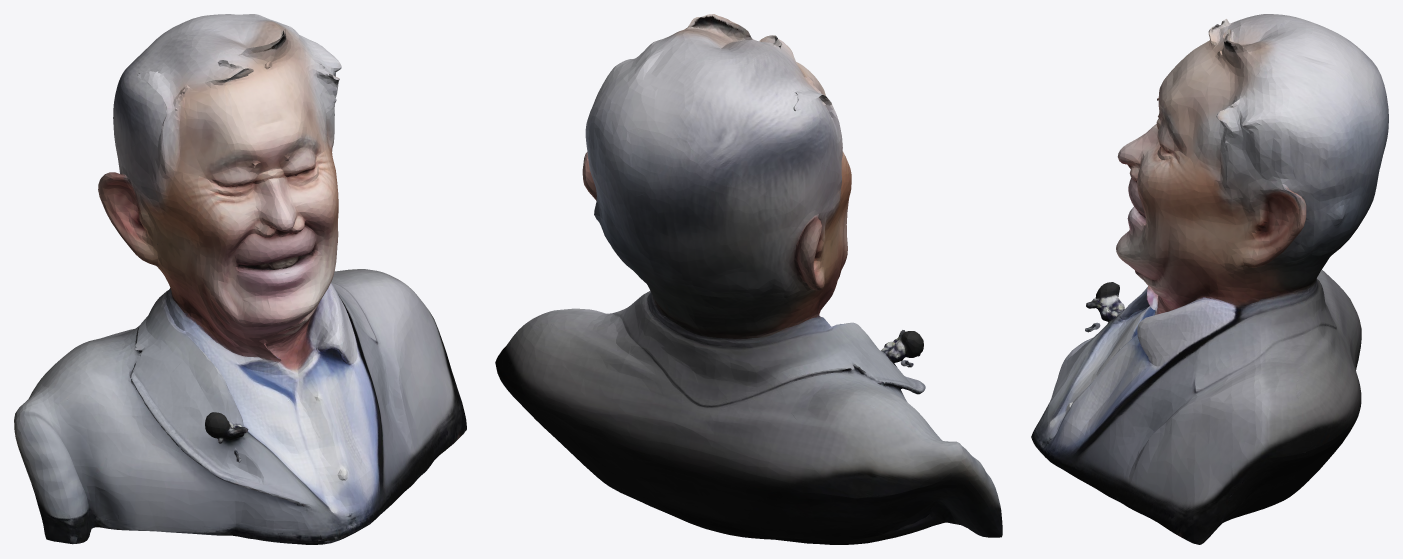
File: takei.glb
3 views of the same model, side by side, from view 1: azimuth 30°, elevation 25°; view 2: azimuth 150°, elevation 25°; view 3: azimuth 270°, elevation 25° (orthographic). The views are drawn at different scales.
Visible parts, largest first — view 1: world; view 2: world; view 3: world.
Part boxes in pixels (x1,y1,x2,y2): world: (14, 14, 466, 544); world: (495, 14, 1002, 544); world: (1031, 14, 1388, 544).
Size of the model in its own units: 0.6968 by 0.6776 by 0.5094.
1 material, 1 textured.
